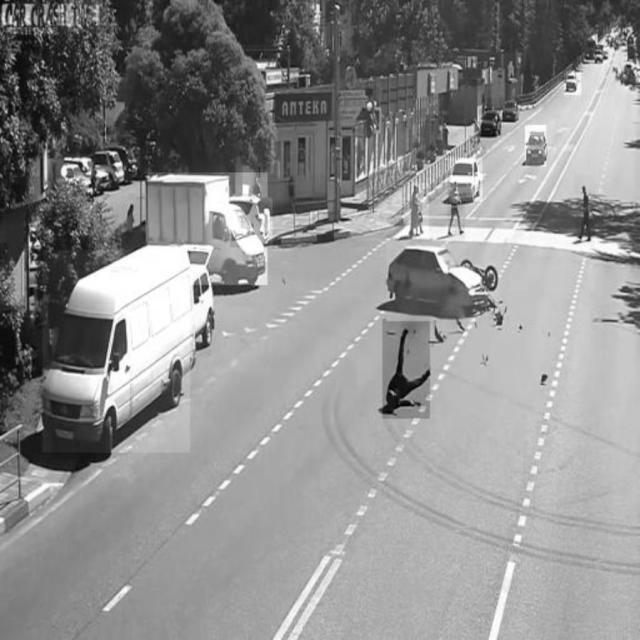accident: (386, 241, 500, 322)
person: (382, 319, 430, 419), (575, 175, 595, 248), (448, 174, 465, 240), (408, 183, 428, 238)
vehicle: (43, 251, 190, 453), (147, 173, 268, 286), (230, 198, 272, 248), (449, 157, 483, 201), (89, 152, 125, 188), (525, 126, 545, 167), (479, 109, 501, 136), (500, 98, 518, 125), (564, 70, 581, 95)
